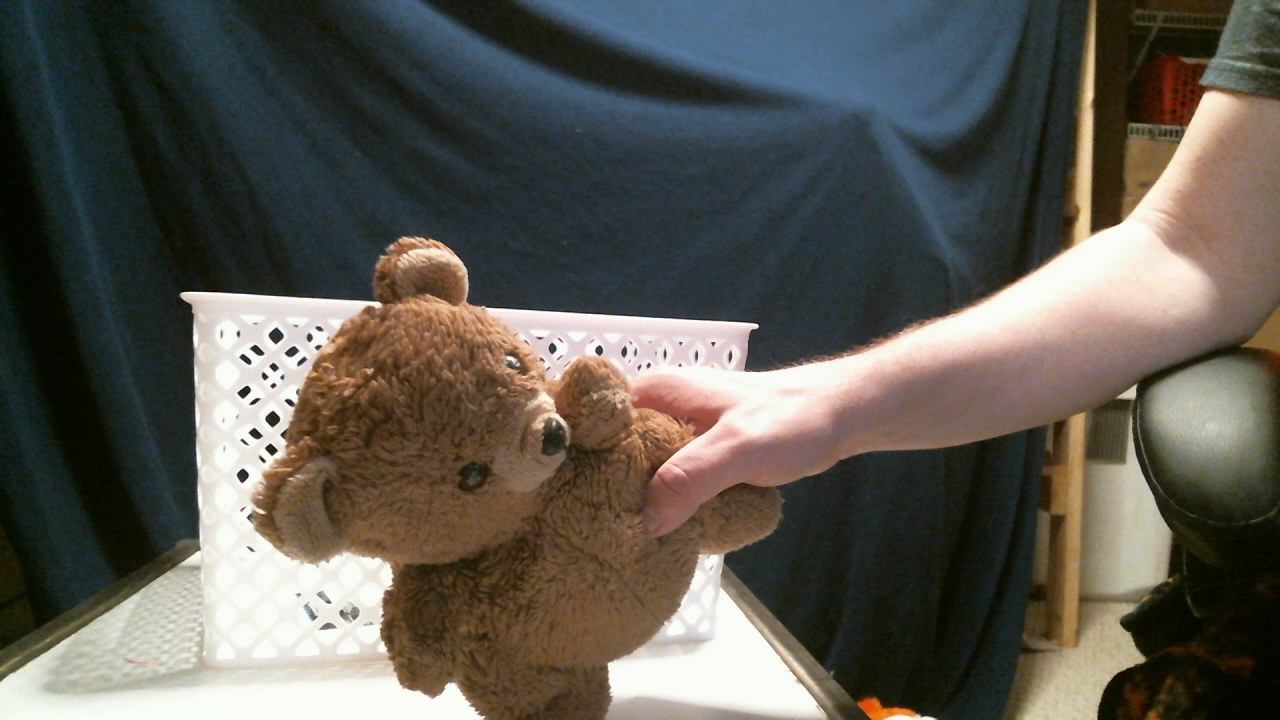Little_Mister_Bear: (437, 357, 574, 509)
